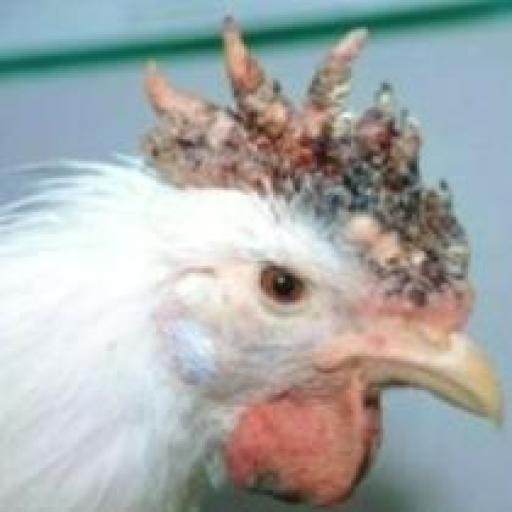disease: (119, 8, 478, 319)
